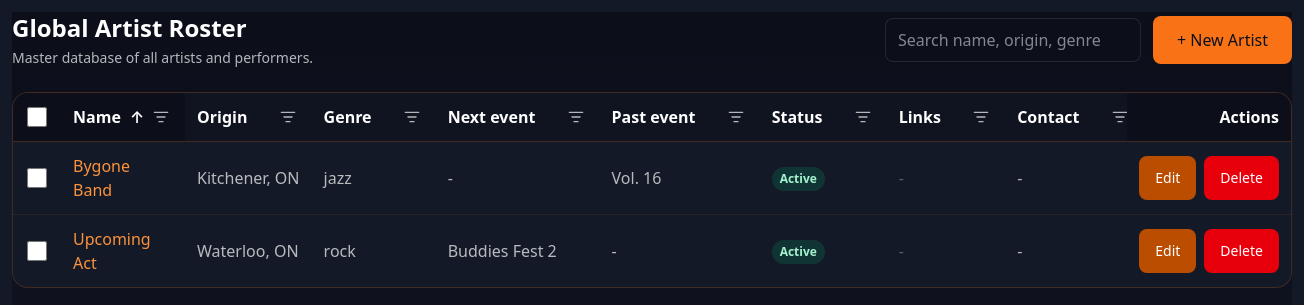
Scenario: RosterTab — Next event / Past event columns (#710) › filters to a specific Next event via the column dropdown
Click the button named "Filter by Next event": coordinates (576, 117) x1=564 y1=105 x2=588 y2=129
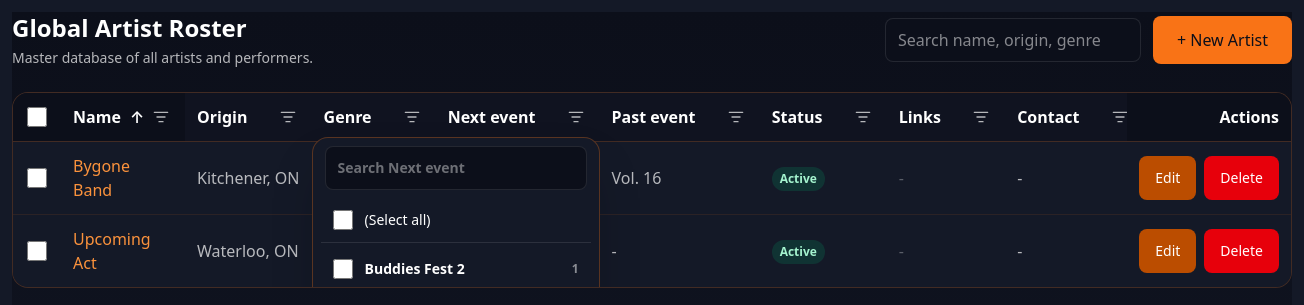
Click the checkbox named "Buddies Fest 2 — 1": coordinates (342, 269) x1=332 y1=259 x2=352 y2=279
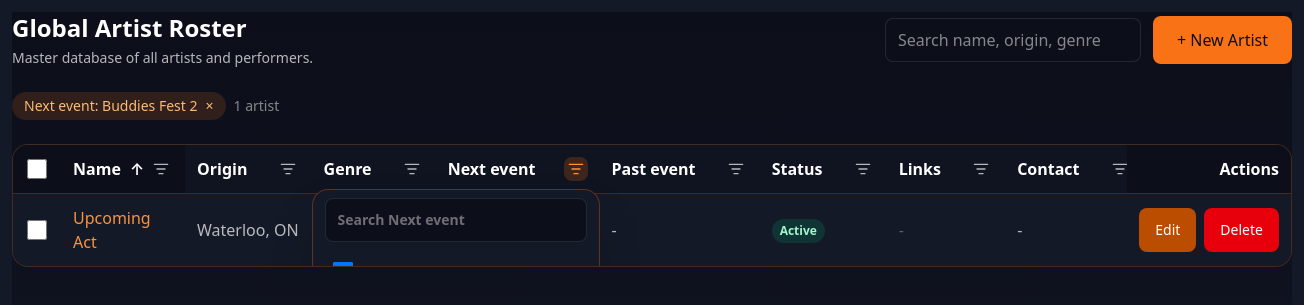
Expected: the link "Upcoming Act" is shown, x1=73 y1=207 x2=151 y2=253
Result: no links "Bygone Band" are shown
